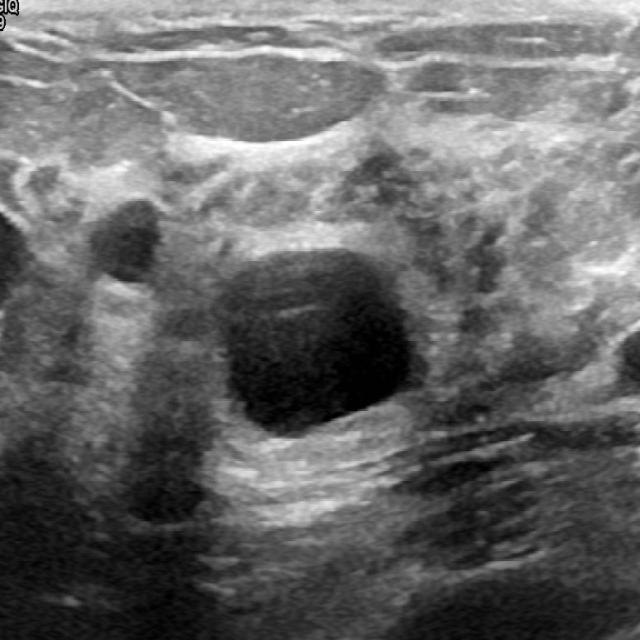Benign: (228, 250, 414, 430)
